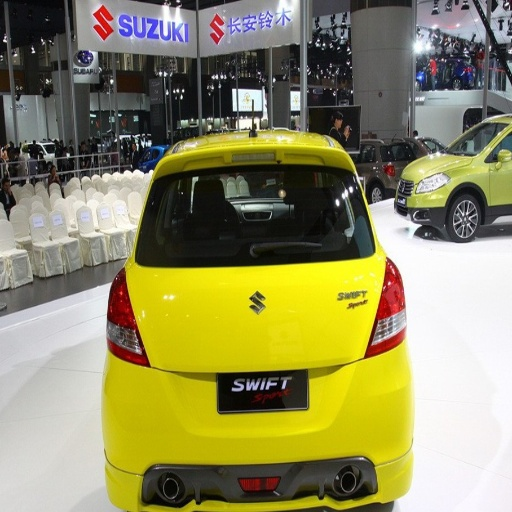back_bumper: (108, 335, 406, 508)
trunk: (132, 260, 382, 458)
